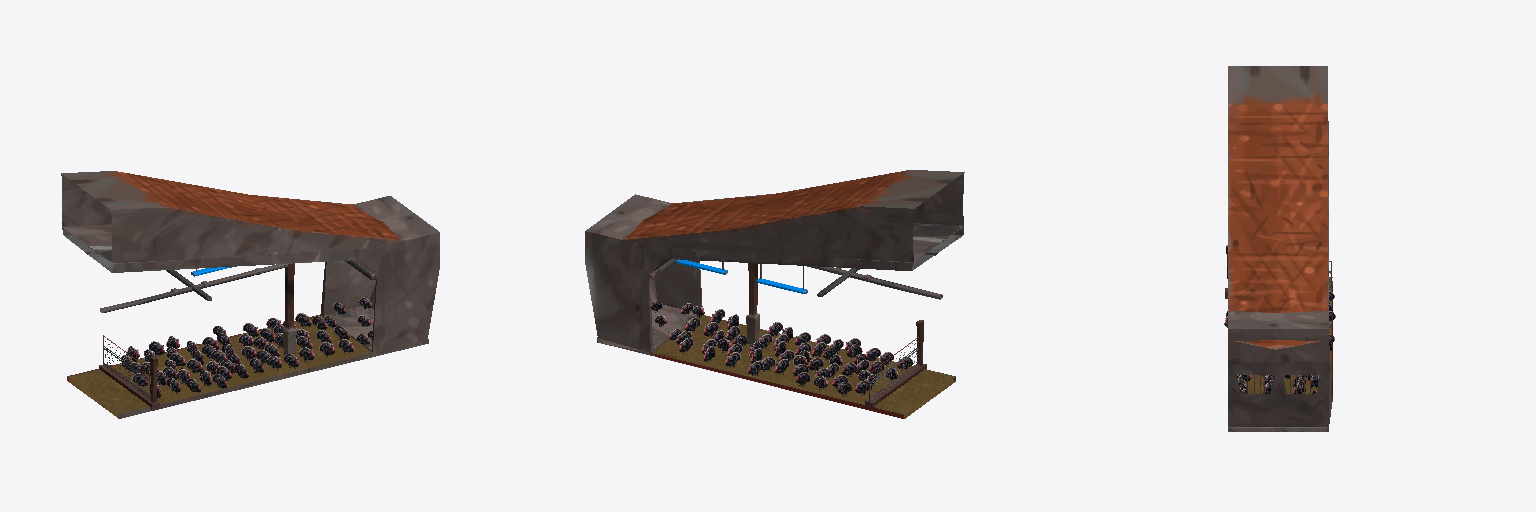
3 views of the same model, side by side, from view 1: azimuth 30°, elevation 25°; view 2: azimuth 150°, elevation 25°; view 3: azimuth 270°, elevation 25° (orthographic).
Visible parts, largest first — view 1: pPlane261; view 2: pPlane261; view 3: pPlane261.
Boxes of the visible parts, <box> form: pPlane261: <box>61,171,439,418</box>; pPlane261: <box>585,170,964,418</box>; pPlane261: <box>1224,66,1335,431</box>.
Size of the model in its own units: 47.19 by 28.14 by 13.35.
1 materials, 1 textured.